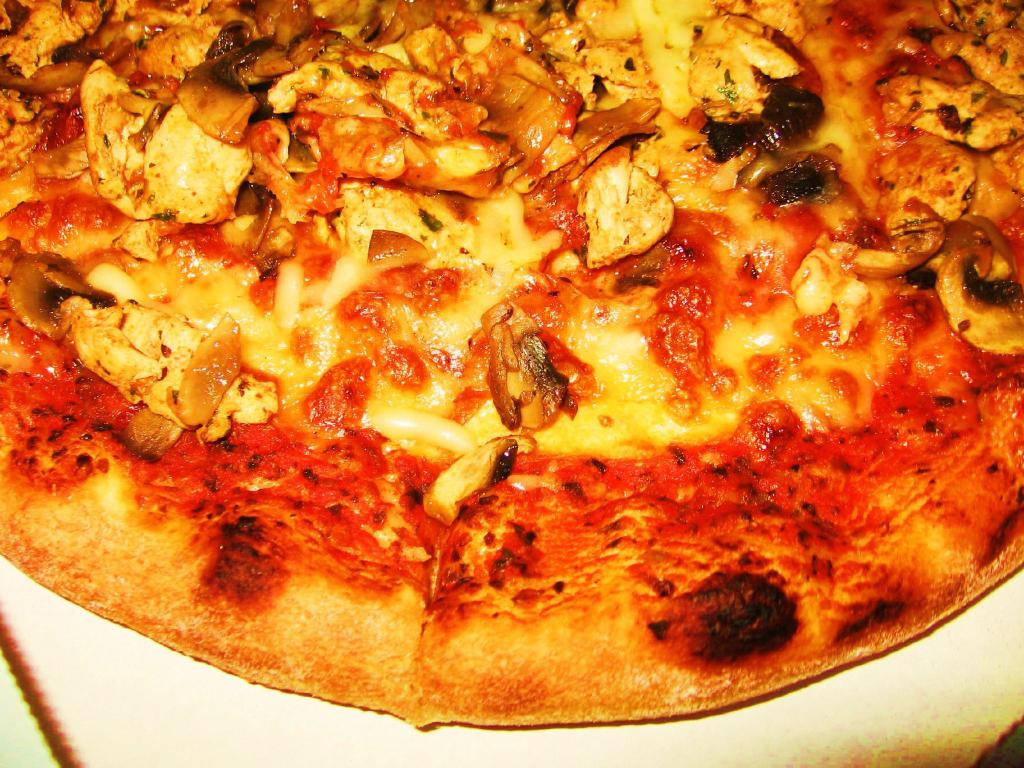Pizza: (3, 7, 1020, 743)
